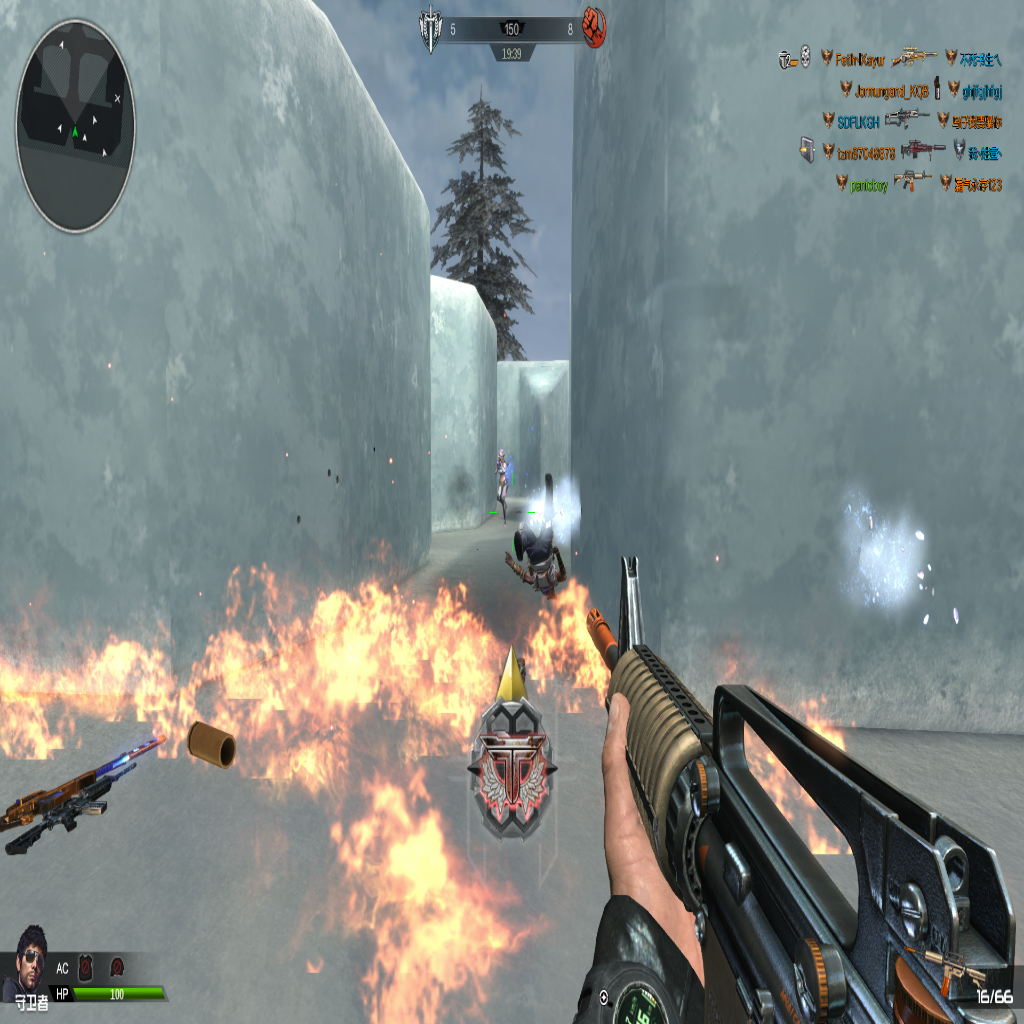tt: (495, 453, 509, 527)
